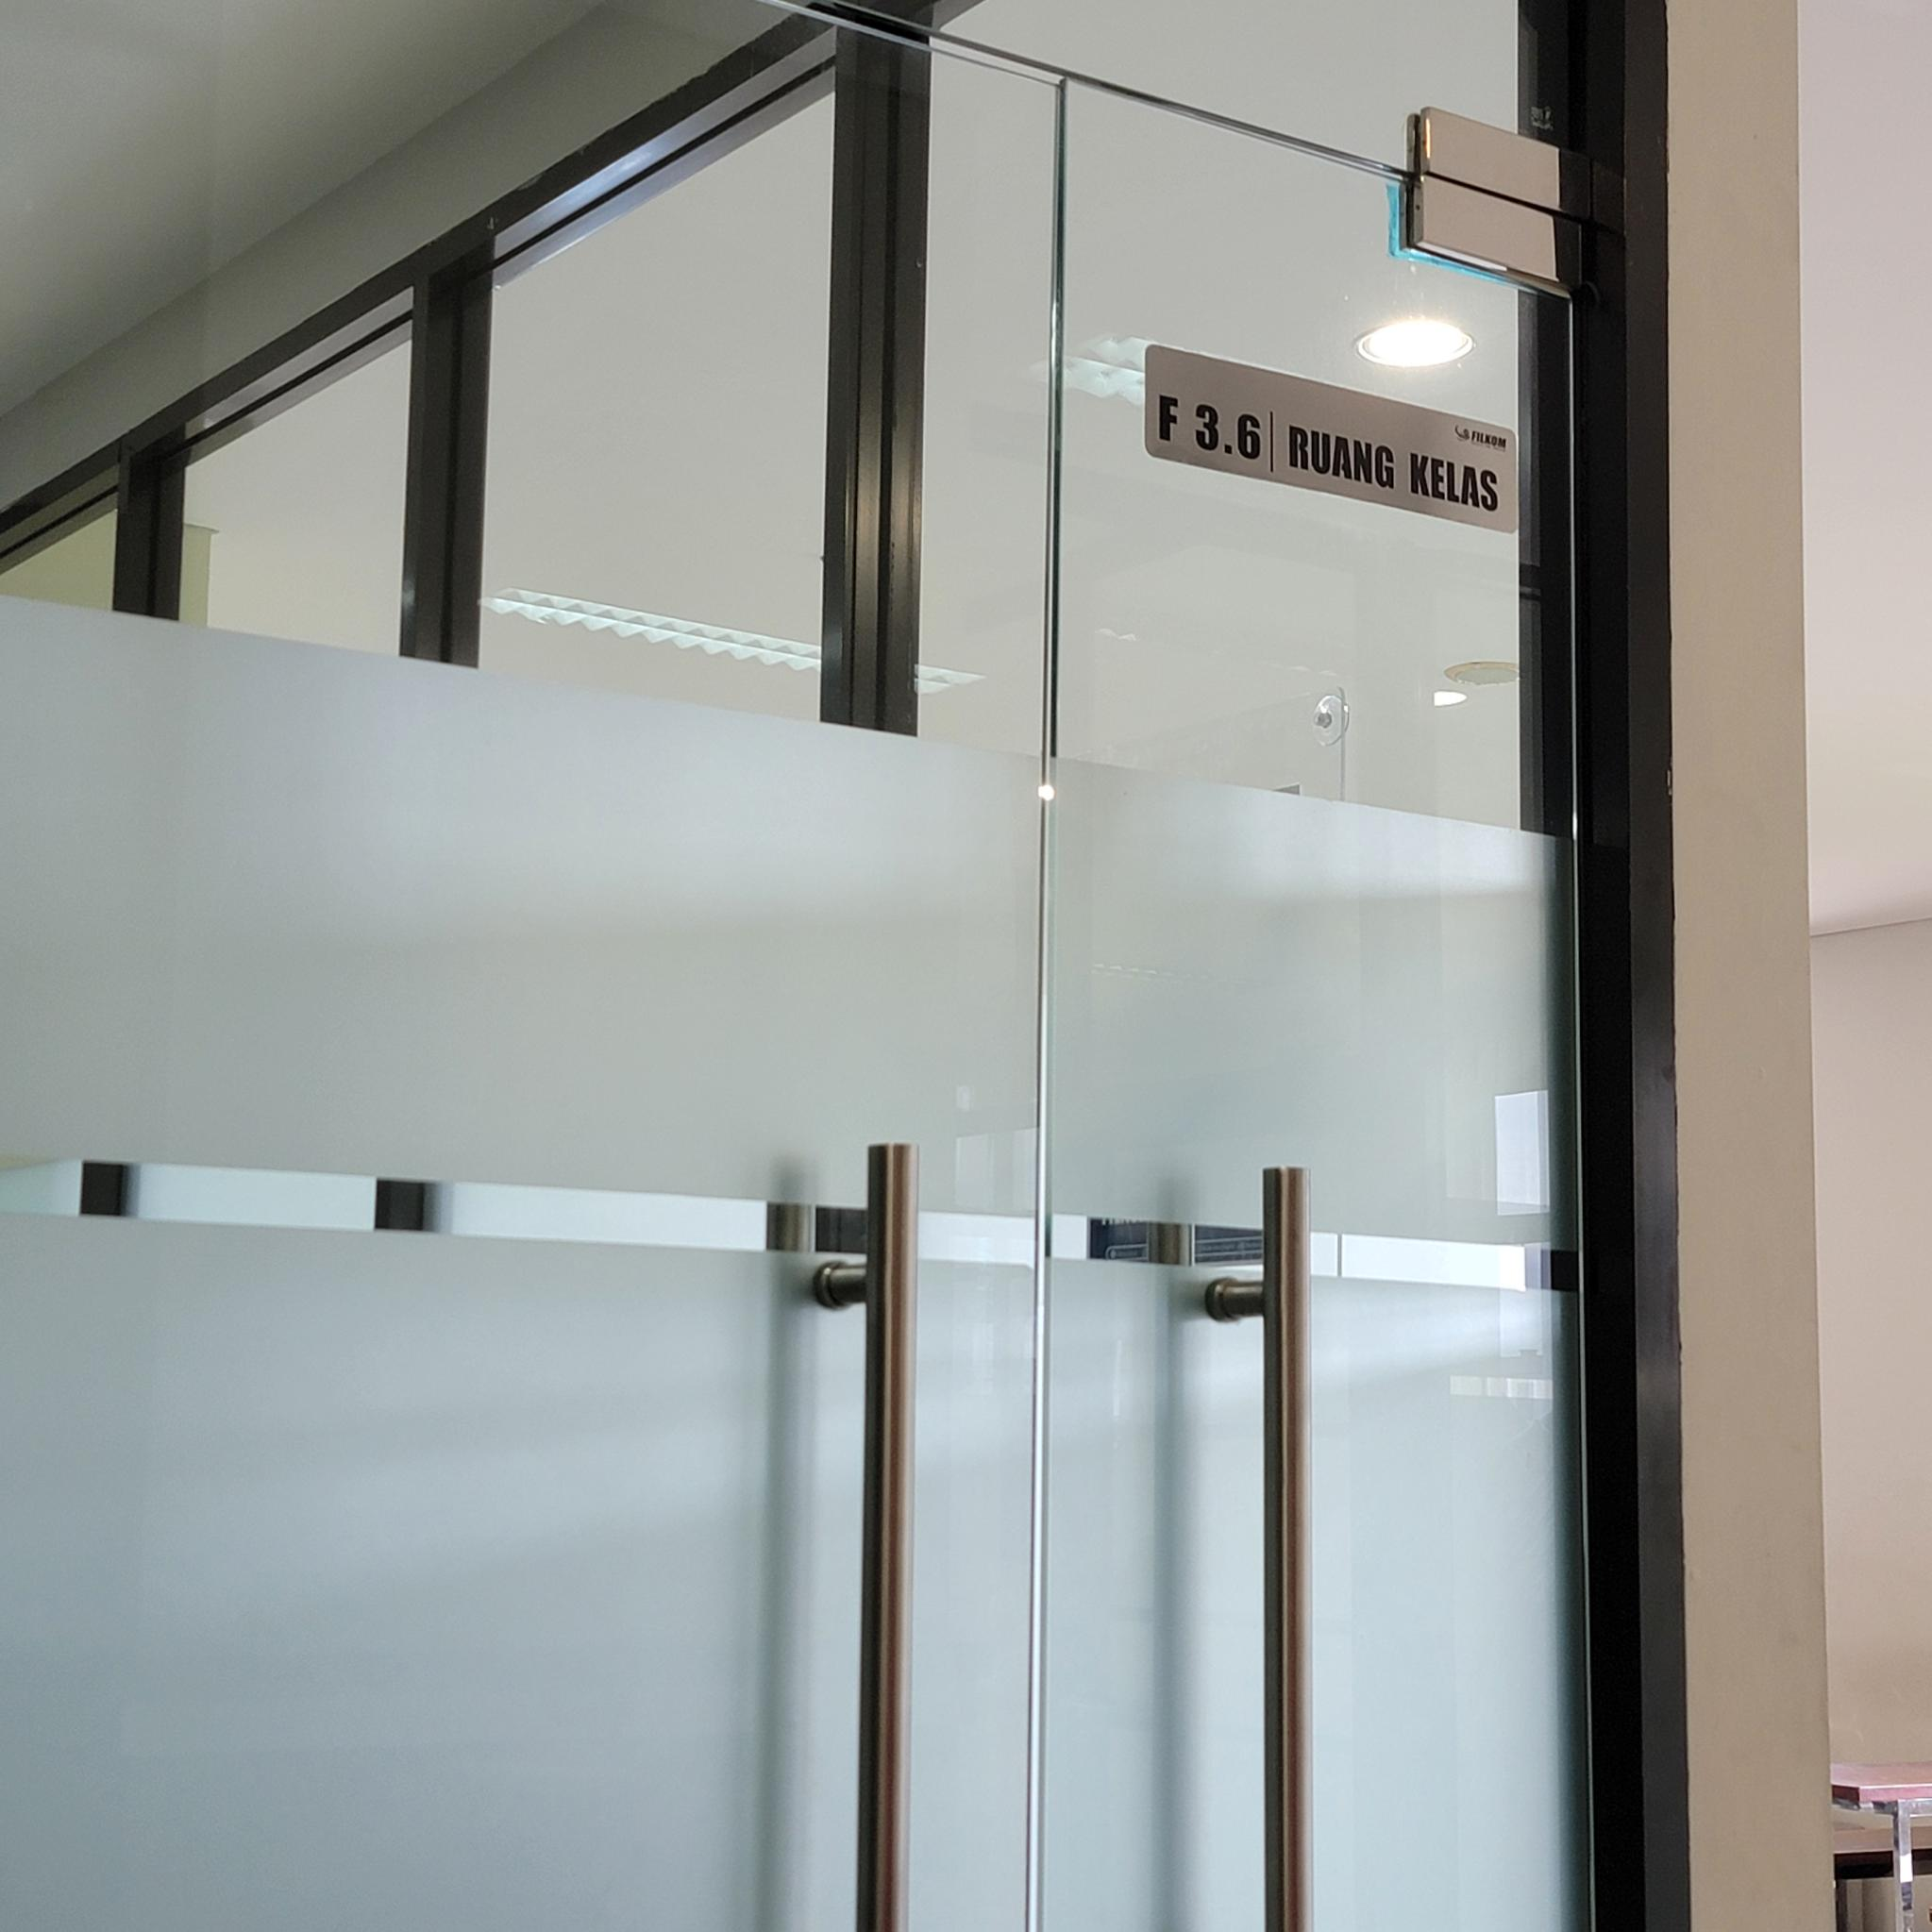plate: (1145, 345, 1520, 536)
